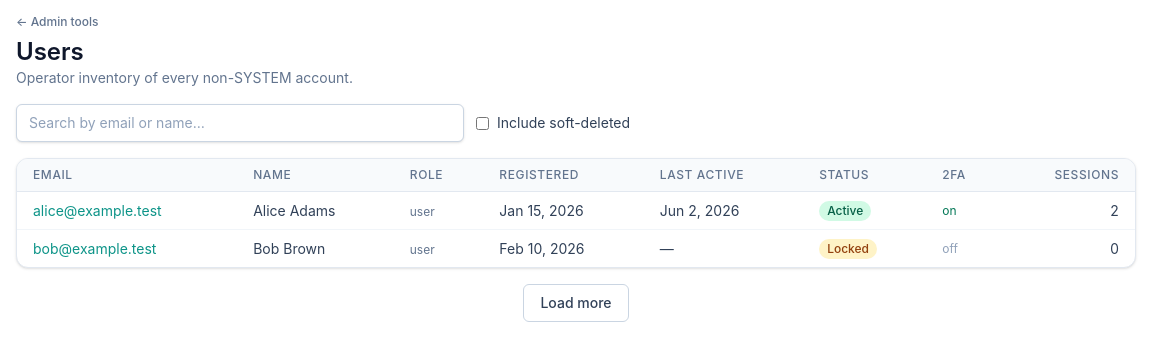
AdminUsersPage › shows "Load more" when has_more=true and appends the next page
This screenshot has width=1153, height=339.
Expected: the link "alice@example.test" is shown, [33,202,162,218]
Step 1. Click the button "Load more" → [576, 303], box [523,284,628,322]
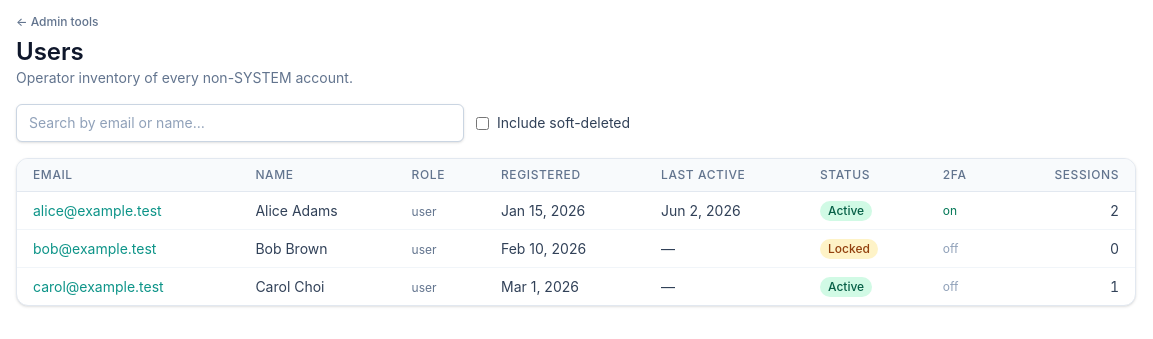
Expected: the link "carol@example.test" is shown, [33,278,164,294]
Expected: the button "Load more" is gone
